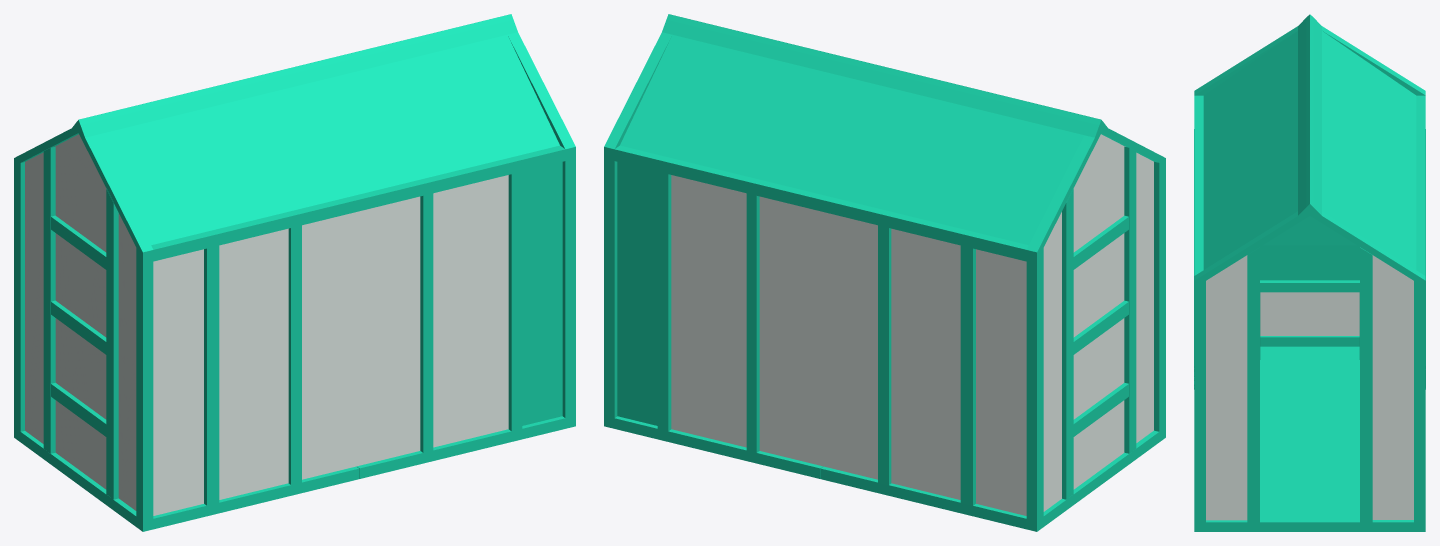
Rendered from farmSim.fbx.
The picture shows the model from 3 angles, left to right: view 1: azimuth 30°, elevation 25°; view 2: azimuth 150°, elevation 25°; view 3: azimuth 270°, elevation 25°; orthographic projection. The views are drawn at different scales.
Visible parts, largest first — view 1: Plane, Plane.007, Plane.006, Plane.008, Plane.010, Plane.009, Plane.005, Plane.011, Plane.012, Plane.002, Plane.003, Plane.001; view 2: Plane, Plane.007, Plane.006, Plane.008, Plane.010, Plane.009, Plane.005, Plane.011, Plane.012, Plane.002, Plane.003, Plane.001; view 3: Plane, Plane.014, Plane.013, Plane.010.
Boxes of the visible parts, <box> form: Plane: <box>14,14,575,531</box>; Plane.007: <box>302,196,420,479</box>; Plane.006: <box>433,175,508,447</box>; Plane.008: <box>219,228,288,499</box>; Plane.010: <box>54,134,106,489</box>; Plane.009: <box>153,249,203,515</box>; Plane.005: <box>522,162,562,425</box>; Plane.011: <box>25,152,43,443</box>; Plane.012: <box>118,213,136,510</box>; Plane.002: <box>51,382,106,436</box>; Plane.003: <box>51,215,106,269</box>; Plane.001: <box>51,300,106,354</box>; Plane: <box>604,14,1165,531</box>; Plane.007: <box>759,196,877,479</box>; Plane.006: <box>671,175,746,447</box>; Plane.008: <box>891,228,960,499</box>; Plane.010: <box>1073,134,1125,489</box>; Plane.009: <box>976,249,1026,515</box>; Plane.005: <box>617,162,657,425</box>; Plane.011: <box>1043,212,1061,511</box>; Plane.012: <box>1136,152,1153,442</box>; Plane.002: <box>1073,383,1128,436</box>; Plane.003: <box>1073,215,1128,269</box>; Plane.001: <box>1073,300,1128,354</box>; Plane: <box>1194,14,1425,531</box>; Plane.014: <box>1206,255,1247,520</box>; Plane.013: <box>1372,255,1413,519</box>; Plane.010: <box>1260,292,1359,335</box>.
Bounding box in the file's own units: 700 × 564 × 361.
